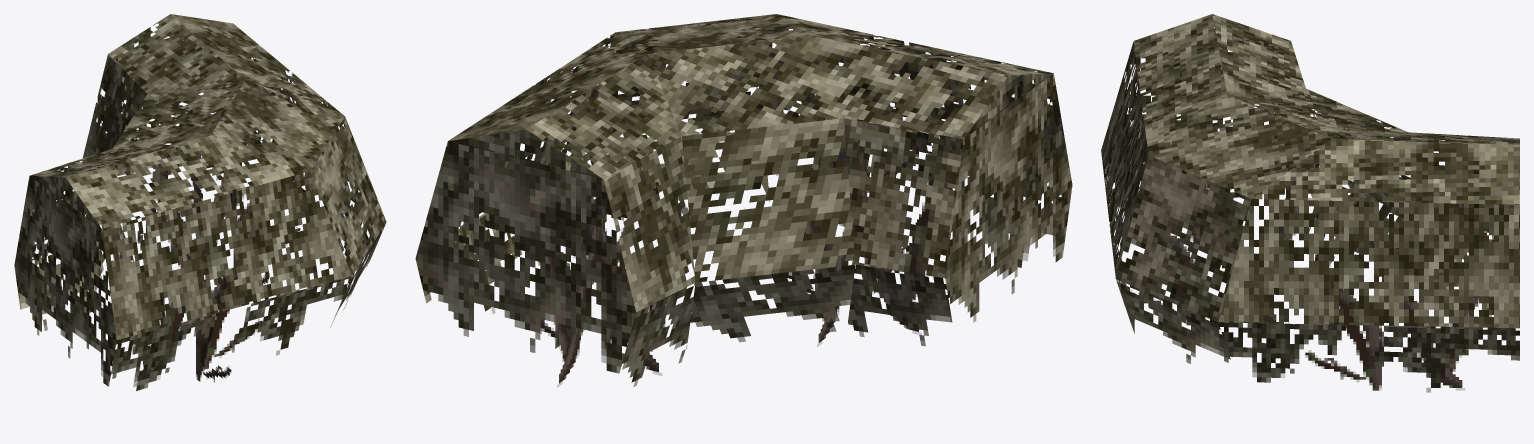
The model's file is bush_round_corner_roots_dead.glb.
The picture shows the model from 3 angles, left to right: view 1: azimuth 30°, elevation 25°; view 2: azimuth 150°, elevation 25°; view 3: azimuth 270°, elevation 25°; orthographic projection. The views are drawn at different scales.
Visible parts, largest first — view 1: bush_round_corner_roots_dead; view 2: bush_round_corner_roots_dead; view 3: bush_round_corner_roots_dead.
Part boxes in pixels (x1=…): bush_round_corner_roots_dead: x1=14, y1=14, x2=386, y2=390; bush_round_corner_roots_dead: x1=415, y1=14, x2=1072, y2=387; bush_round_corner_roots_dead: x1=1101, y1=14, x2=1519, y2=392.
Bounding box in the file's own units: 1.36 × 0.8765 × 1.35.
Materials: 2 (2 with a texture image).
